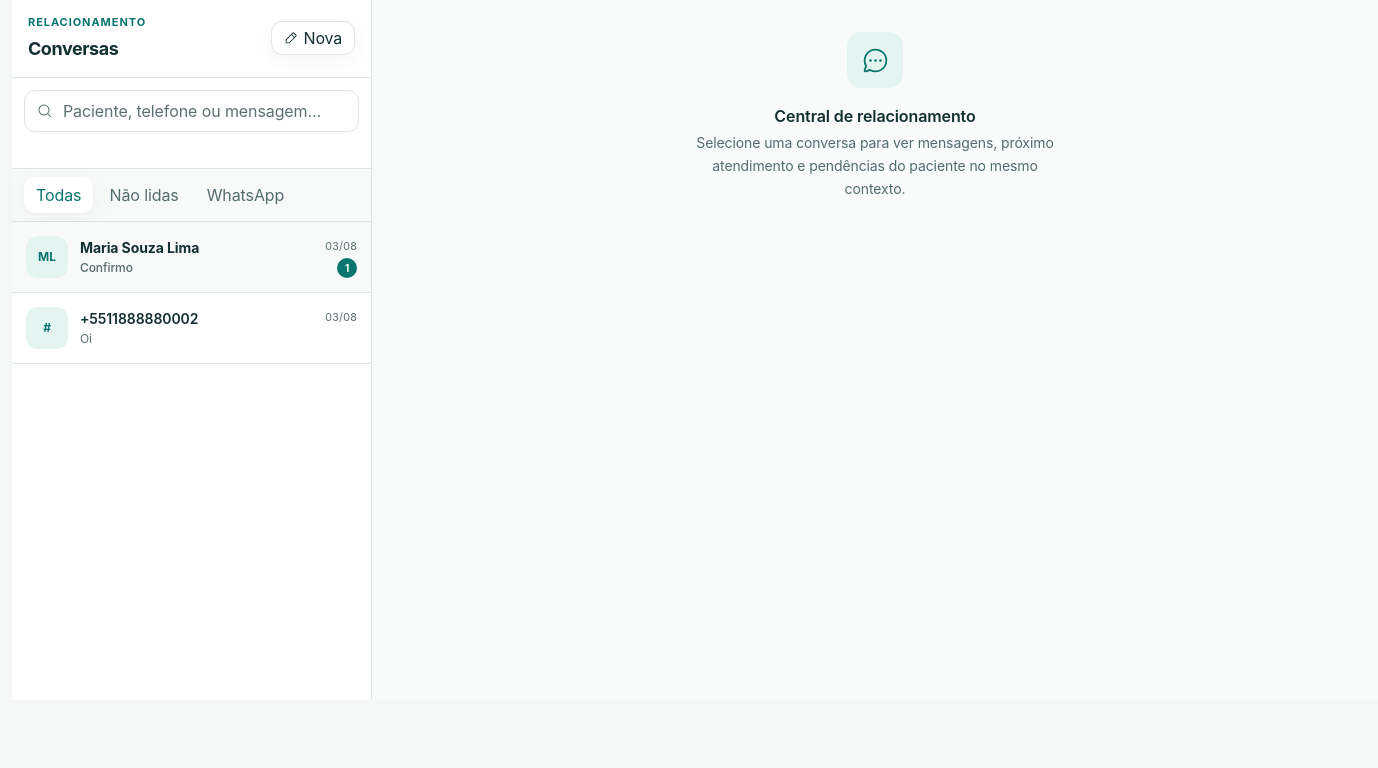
Test: Conversas (split view) › campo de busca filtra conversas
Expected: the text "Maria Souza Lima" is shown, x1=80 y1=239 x2=199 y2=256
Type "Maria" into the field with placeholder "Paciente, telefone ou mensagem…". click: (204, 110)
box: x1=63 y1=90 x2=346 y2=130
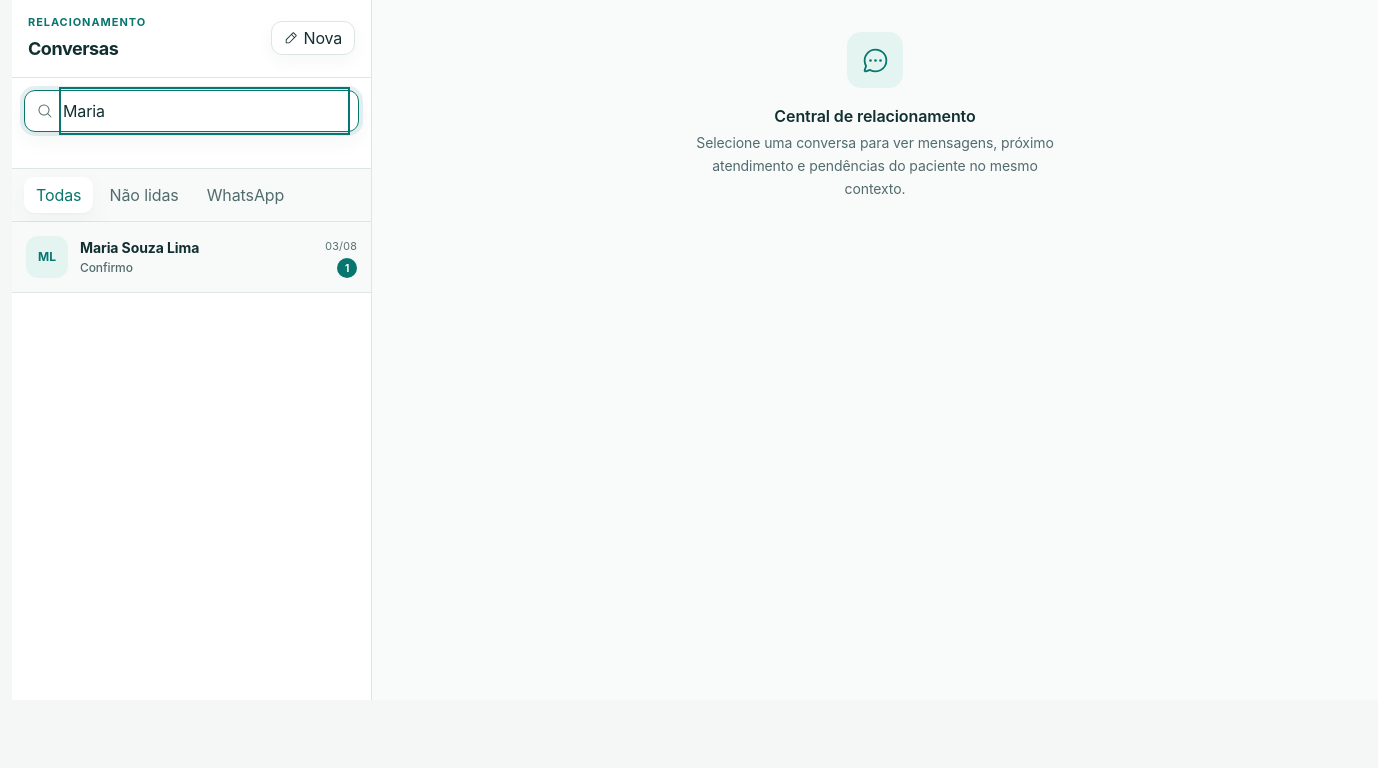
Expected: the text "Maria Souza Lima" is shown, x1=80 y1=239 x2=199 y2=256
Result: the button "+5511888880002" is gone
